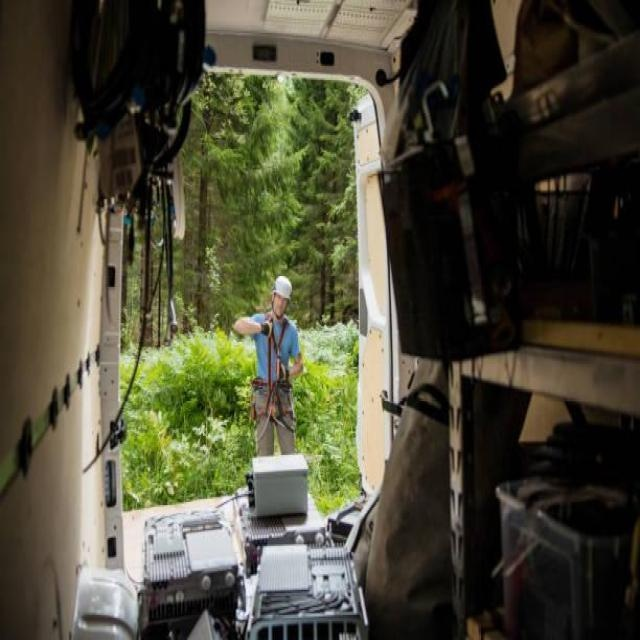Arnes_seguridad: (252, 312, 294, 429)
